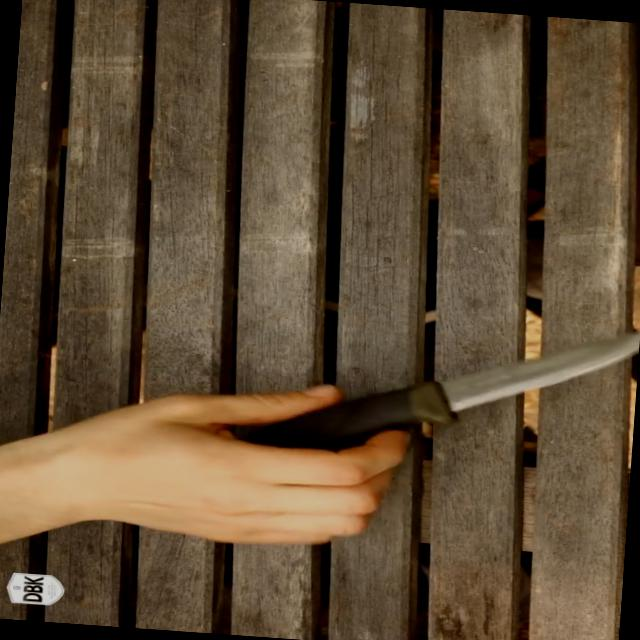knife: (233, 293, 639, 516)
